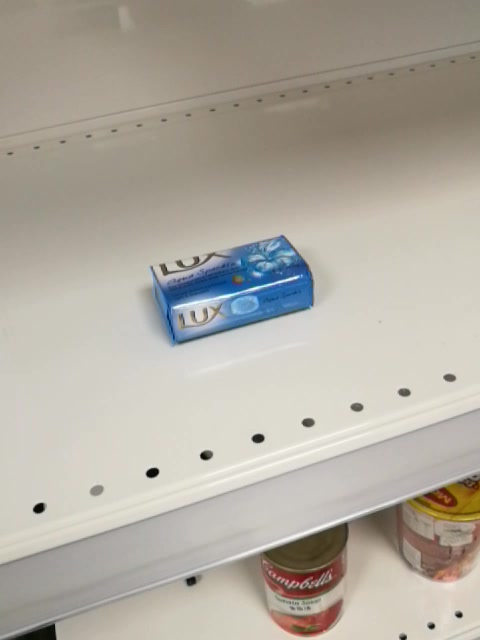soap: (149, 233, 315, 347)
